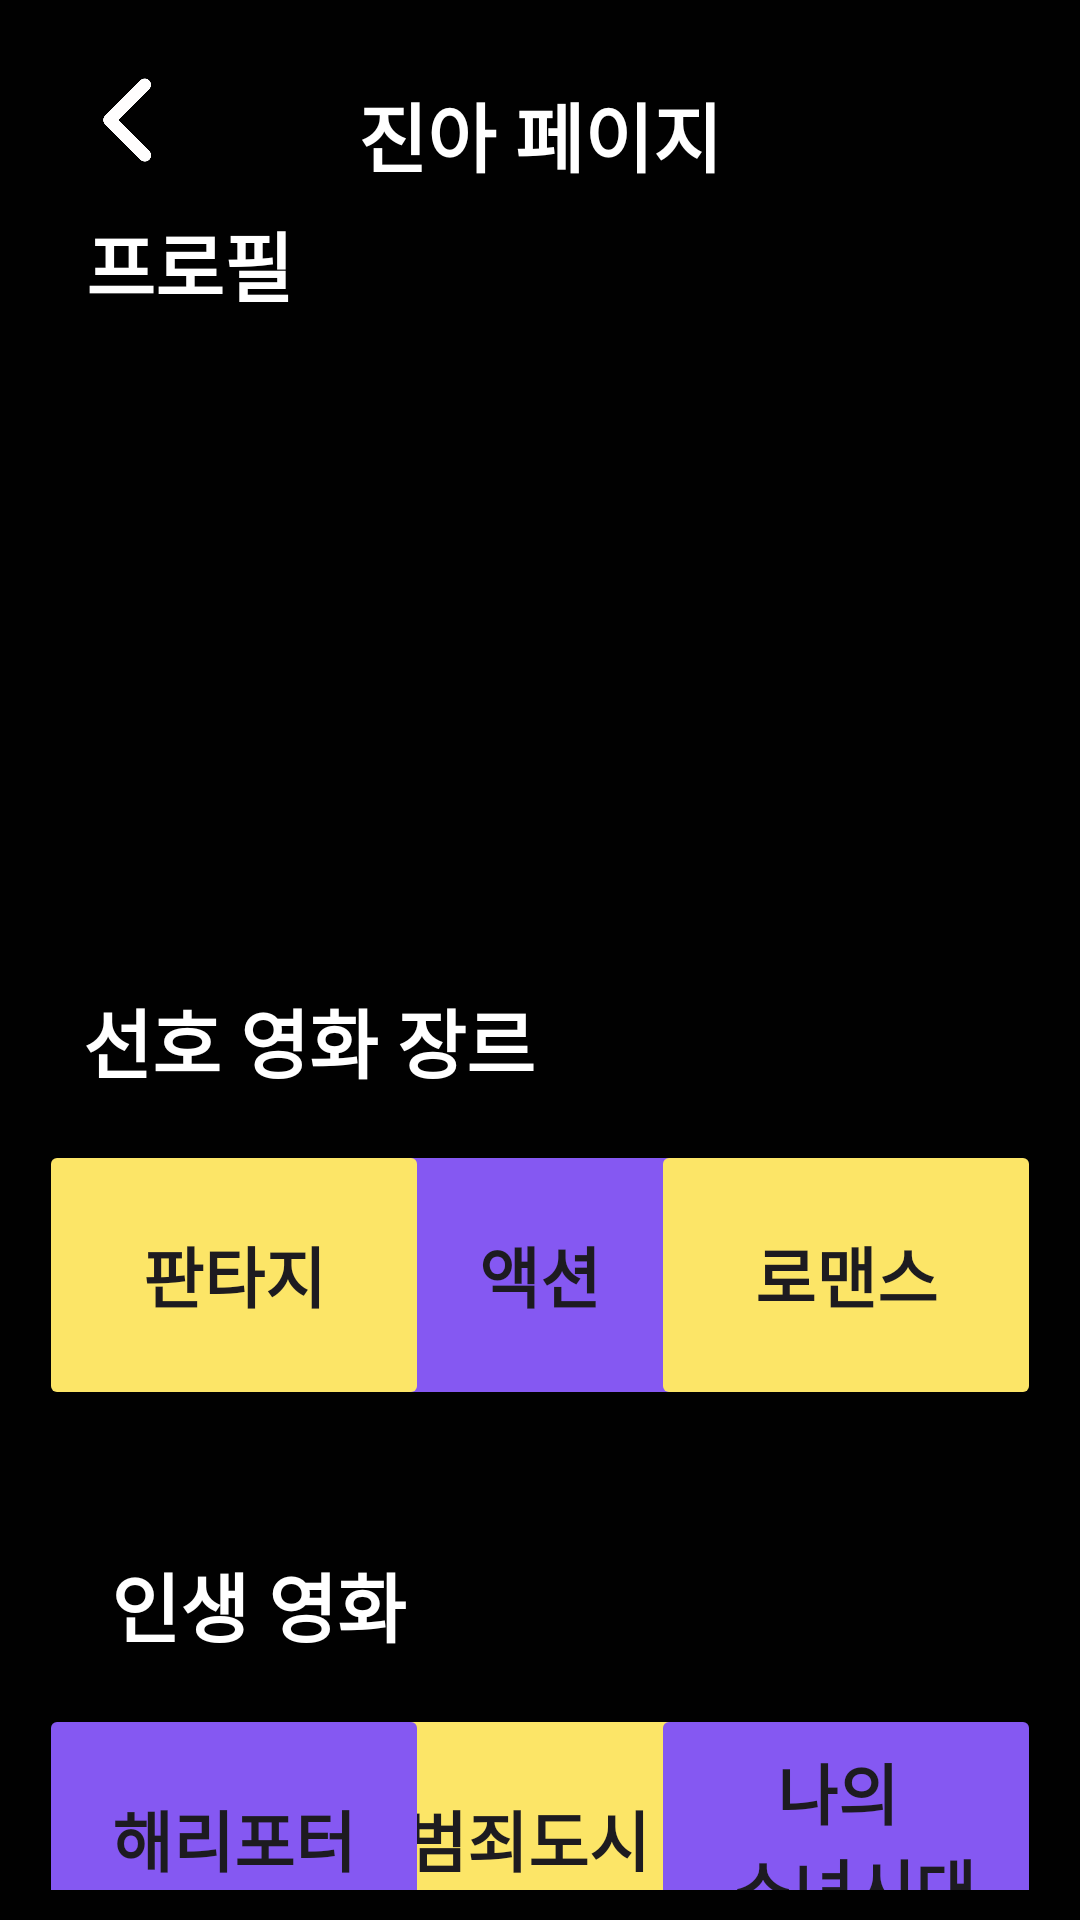

Where to tap for icons on this 1080 × 1920 app screen, as (x,y):
back: (127,120)
